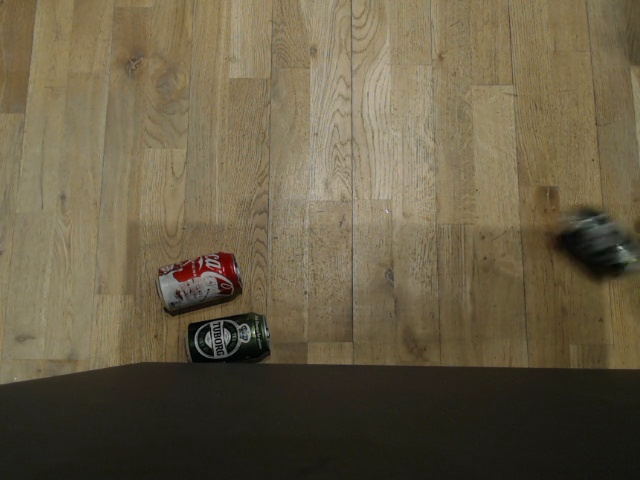beer: (553, 203, 638, 288), (179, 313, 268, 365)
cola: (150, 247, 243, 308)
